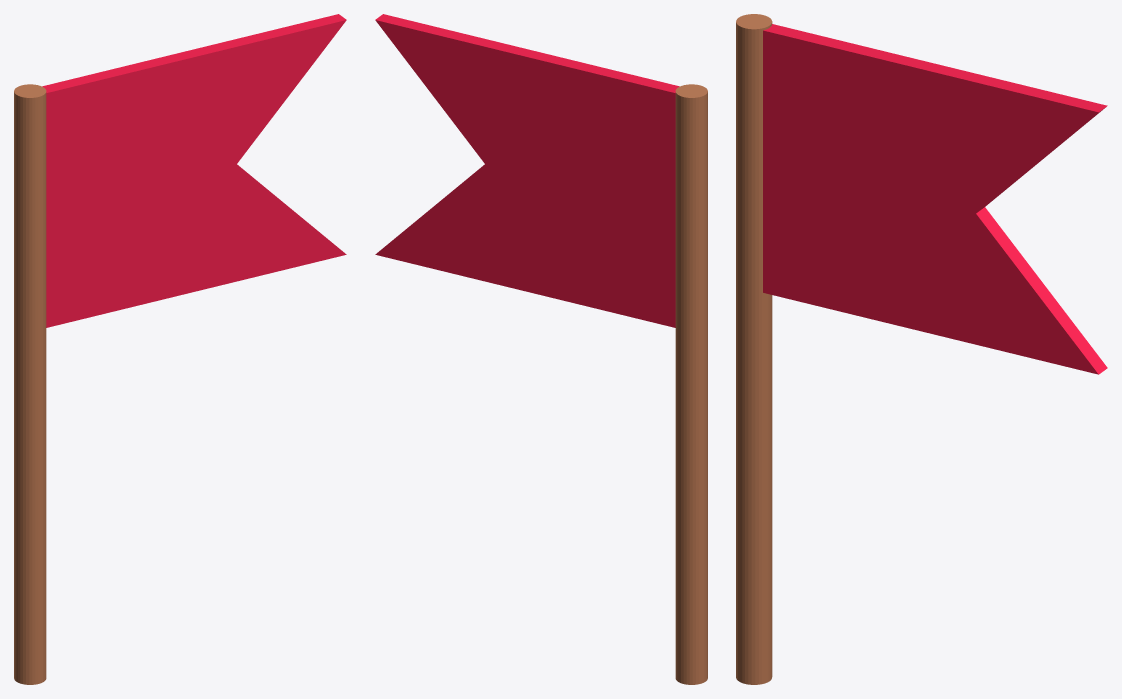
File: Goal.obj
3 renders of one model, left to right at view 1: azimuth 30°, elevation 25°; view 2: azimuth 150°, elevation 25°; view 3: azimuth 330°, elevation 25°, orthographic. The views are drawn at different scales.
Parts seen in each view (by area): view 1: 円柱; view 2: 円柱; view 3: 円柱.
Part boxes in pixels (box(x1,y1,x2,y2)): 円柱: box(14, 14, 346, 684); 円柱: box(375, 14, 707, 684); 円柱: box(736, 14, 1107, 684).
Bounding box in the file's own units: 4.66 × 8 × 0.4.
1 material, 1 textured.
